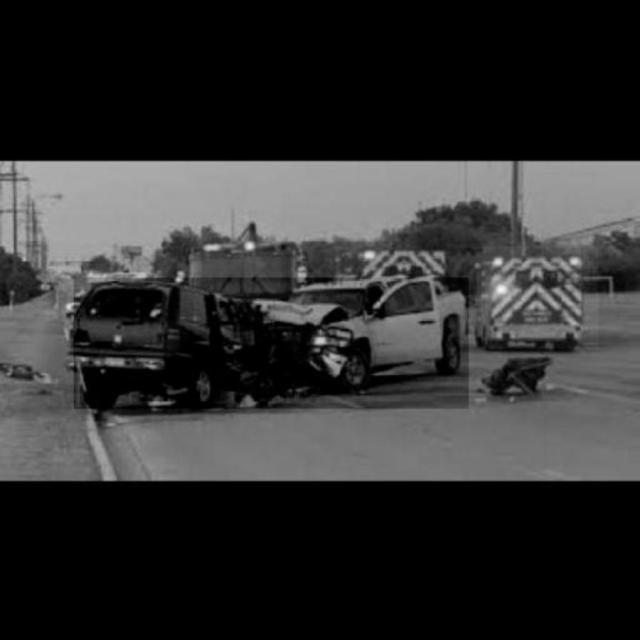accident: (74, 278, 468, 409)
vehicle: (481, 246, 599, 348)
